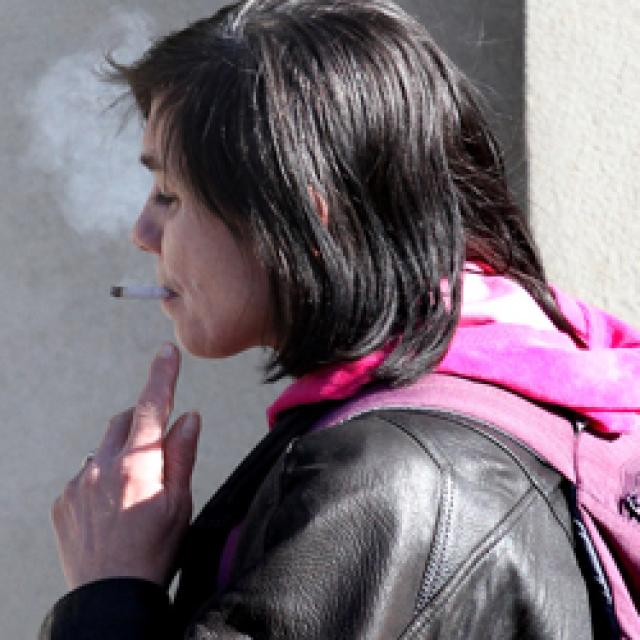Smooking: (93, 273, 169, 312)
